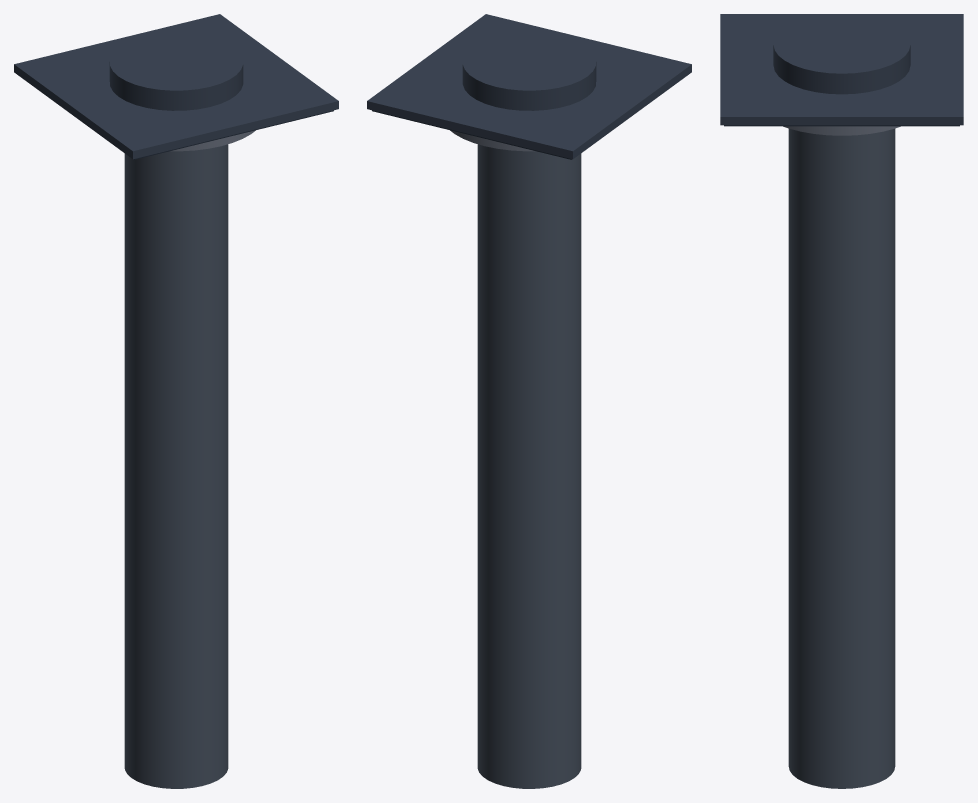
Rendered from turntable.glb.
3 renders of one model, left to right at view 1: azimuth 30°, elevation 25°; view 2: azimuth 150°, elevation 25°; view 3: azimuth 270°, elevation 25°, orthographic. The views are drawn at different scales.
Parts seen in each view (by area): view 1: column, base; view 2: column, base; view 3: column, base, bearing.
Part boxes in pixels (x1,y1,x2,y2): column: (124,144,228,788); base: (14,14,338,159); column: (477,144,581,788); base: (367,14,691,159); column: (788,128,895,788); base: (720,14,963,126); bearing: (783,126,900,135).
Size of the model in its own units: 0.32 by 1.05 by 0.32.
